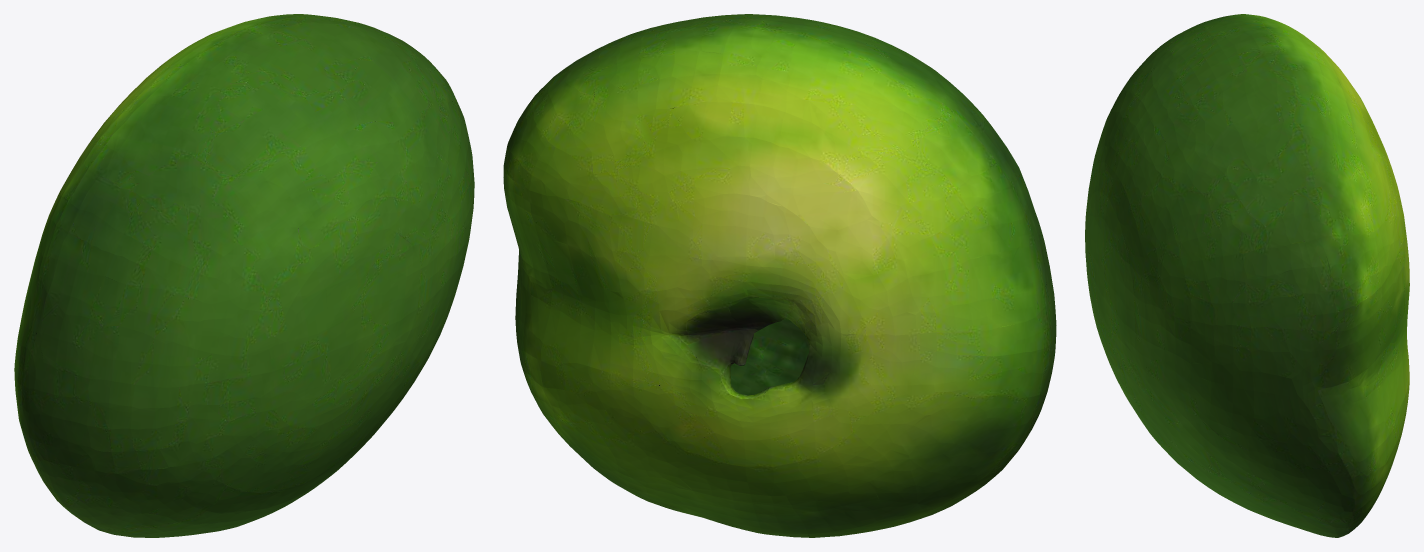
File: small_green_apple_in_the_center_foreground_000.glb
3 views of the same model, side by side, from view 1: azimuth 30°, elevation 25°; view 2: azimuth 150°, elevation 25°; view 3: azimuth 270°, elevation 25° (orthographic). The views are drawn at different scales.
Parts seen in each view (by area): view 1: phase2_final_small_green_apple_in_the_center_foreground_000.; view 2: phase2_final_small_green_apple_in_the_center_foreground_000.; view 3: phase2_final_small_green_apple_in_the_center_foreground_000..
Part boxes in pixels (<box>): phase2_final_small_green_apple_in_the_center_foreground_000.: <box>14,14,474,537</box>; phase2_final_small_green_apple_in_the_center_foreground_000.: <box>503,14,1056,537</box>; phase2_final_small_green_apple_in_the_center_foreground_000.: <box>1085,14,1409,537</box>.
Bounding box in the file's own units: 0.1387 × 0.1336 × 0.0828.
Materials: 1 (1 with a texture image).
